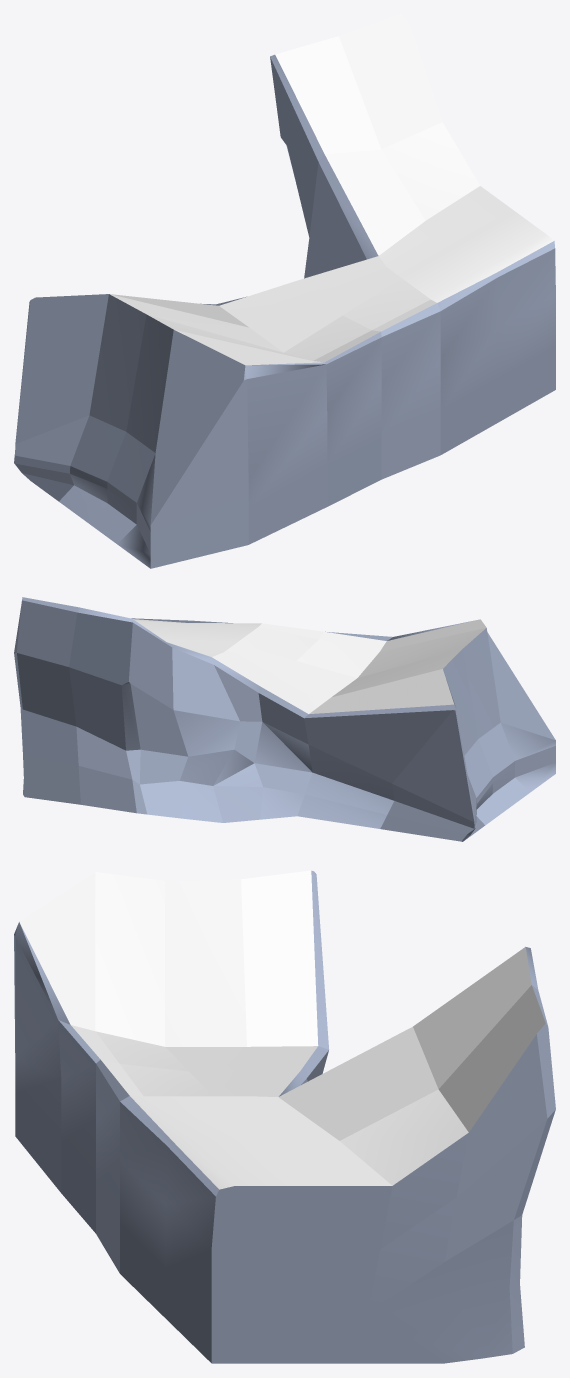
File: MAIN ISLAND TERRAIN9.fbx
3 views of the same model, one above another, from view 1: azimuth 30°, elevation 25°; view 2: azimuth 150°, elevation 25°; view 3: azimuth 270°, elevation 25° (orthographic). The views are drawn at different scales.
Parts seen in each view (by area): view 1: MainIslandTerrain.005; view 2: MainIslandTerrain.005; view 3: MainIslandTerrain.005.
Boxes of the visible parts, x1,y1,x2,y2 form: MainIslandTerrain.005: (14, 14, 555, 568); MainIslandTerrain.005: (14, 597, 555, 841); MainIslandTerrain.005: (14, 870, 555, 1363).
Bounding box in the file's own units: 14215 × 7467 × 11047.
